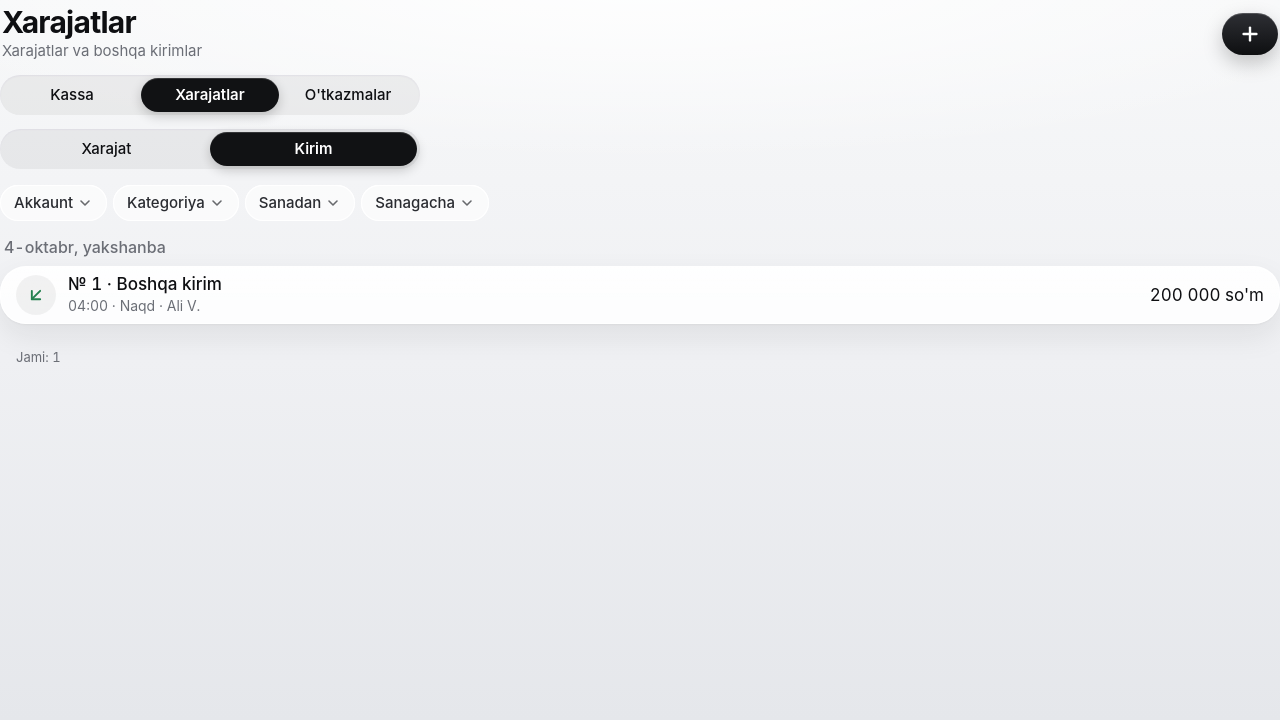
Test: the plus opens the sheet of the kind chosen
Click the button named "Kirim qo'shish": coordinates (1250, 34) left=1222, top=13, right=1278, bottom=55
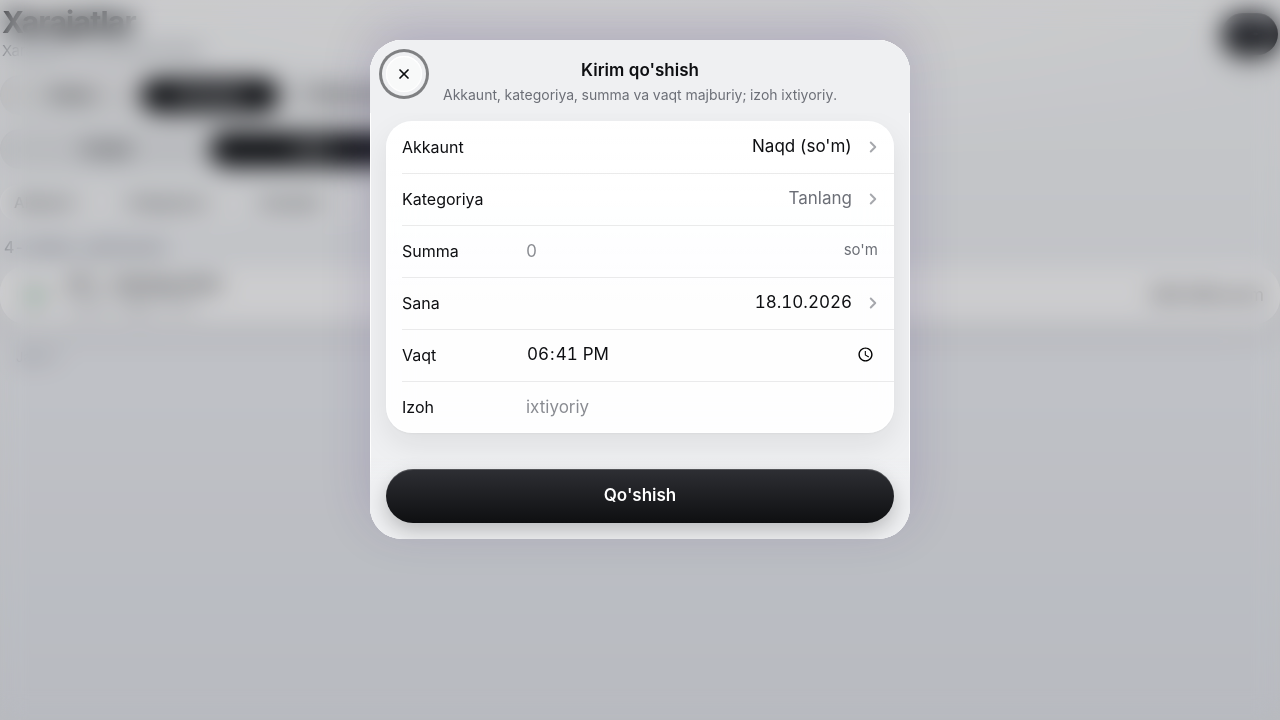
Expected: the dialog "Kirim qo'shish" is shown, left=370, top=40, right=910, bottom=538
